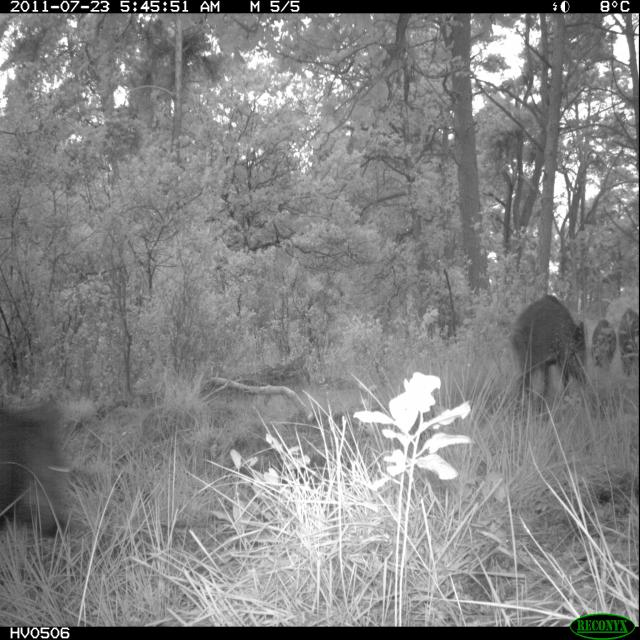boar: (0, 380, 116, 571), (496, 281, 610, 408), (613, 302, 640, 396), (587, 316, 619, 382)
